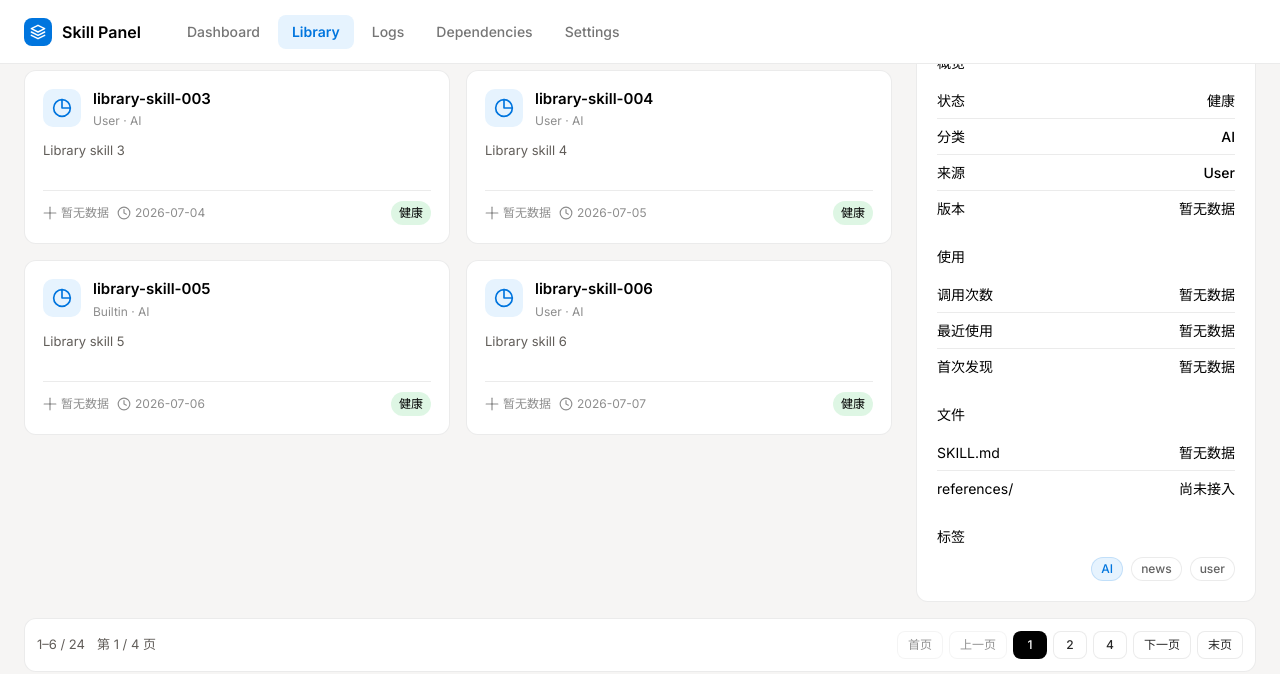
Test case: AppShell Tauri event fallback › resets to page 1 after category changes
(page scrolled)
Click the button "下一页" at (1162, 645), box [1133,631,1191,659]
(page scrolled)
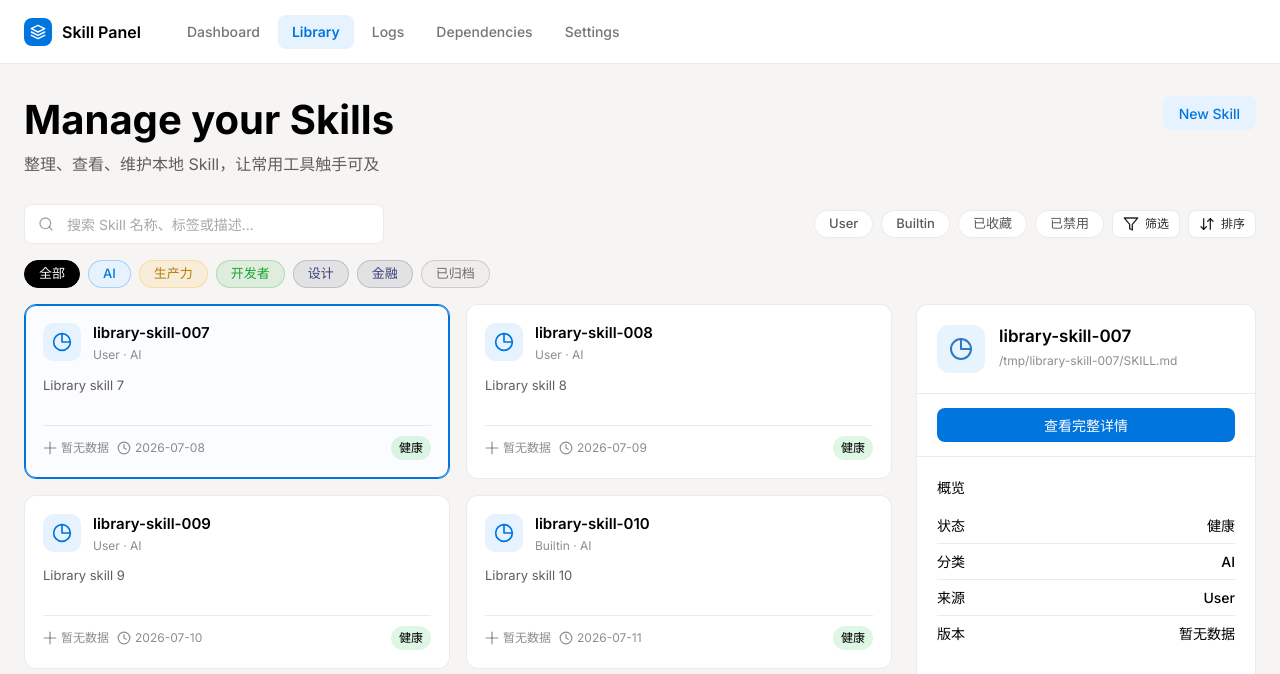
Click the button "金融" at (385, 274), box [357,260,413,288]
(page scrolled)
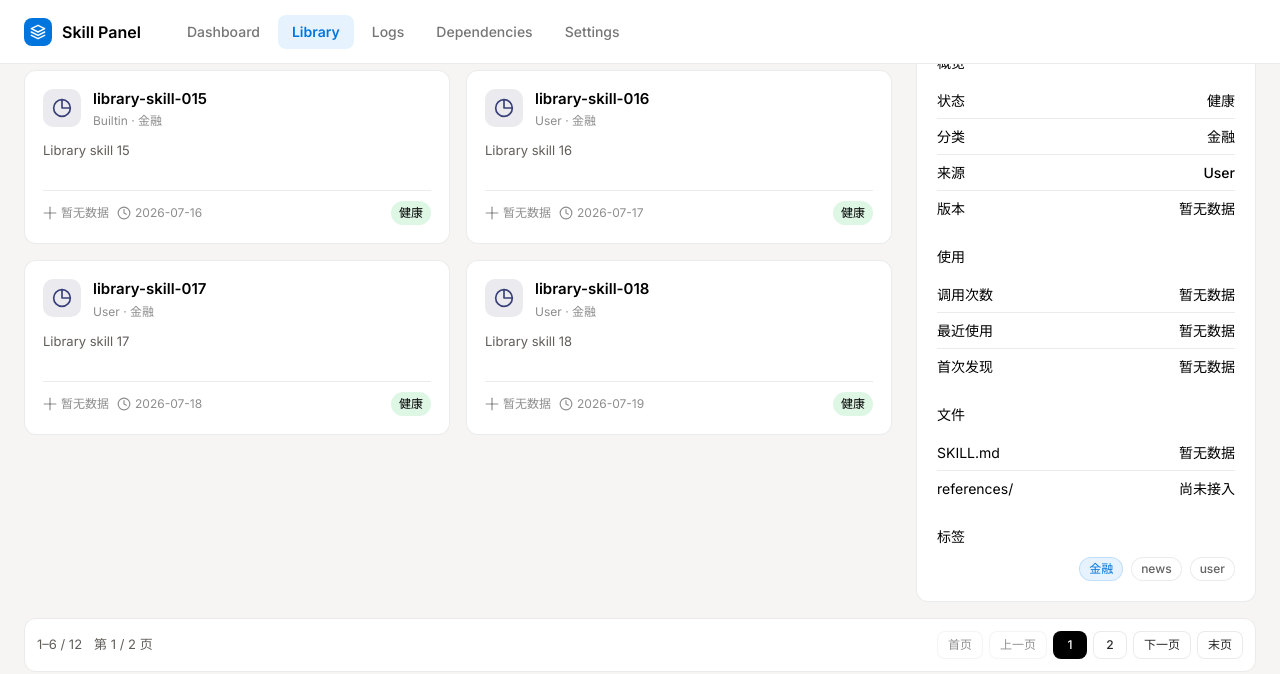
Expected: the text "第 1 / 2 页" is shown, [94,635,153,655]
Expected: the text "1–6 / 12" is shown, [37,635,82,655]
